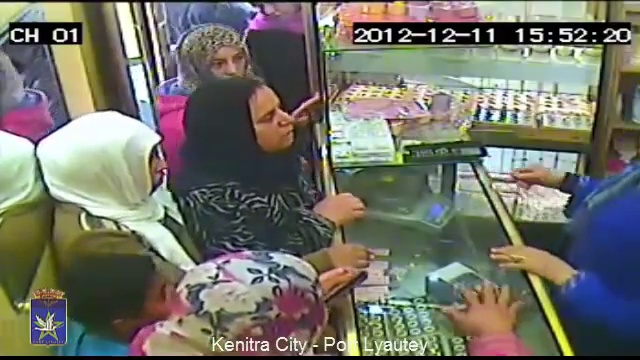face: (235, 97, 297, 150), (202, 45, 250, 77)
